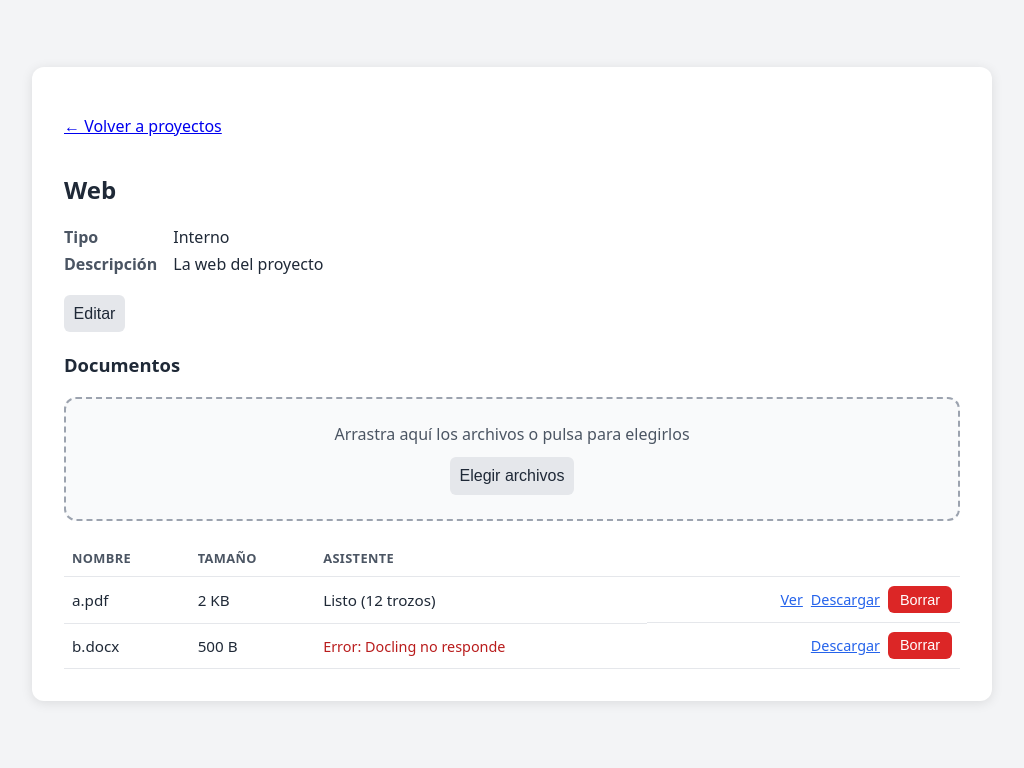
Scenario: ProyectoDetalle › al editar, el 409 se muestra y el formulario sigue abierto
The image size is (1024, 768).
Click the button "Editar". click: (94, 314)
box: [64,295,125,332]
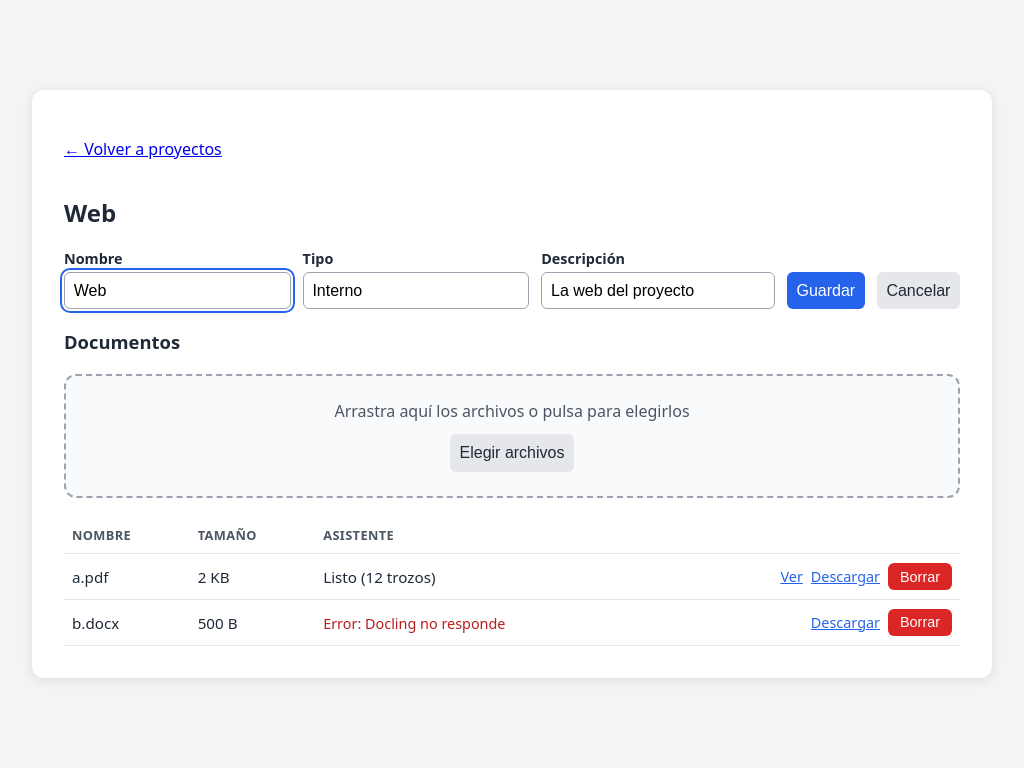
Click the button "Guardar". click: (826, 291)
box: [787,272,865,309]
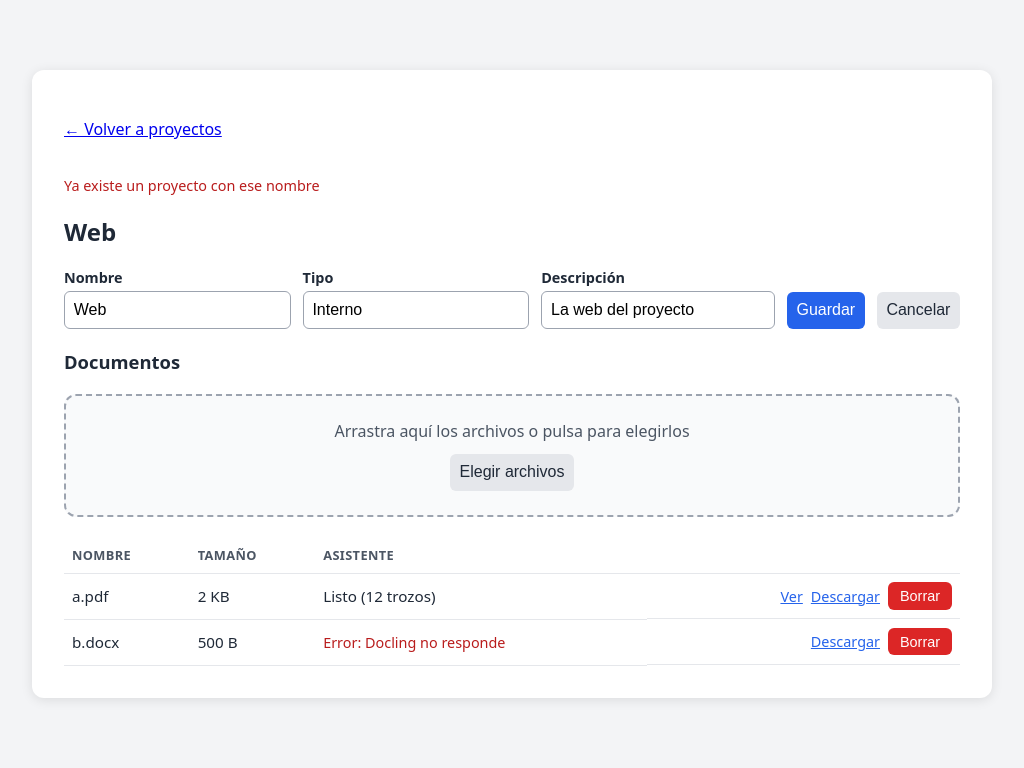
Expected: the form named "Editar proyecto" is shown, [64,268,960,329]
Expected: the message reads "Ya existe un proyecto con ese nombre", [64,176,320,195]
